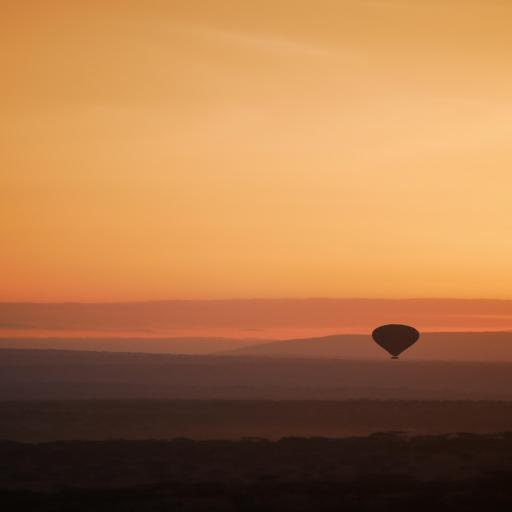hot air ballon: (368, 321, 424, 367)
